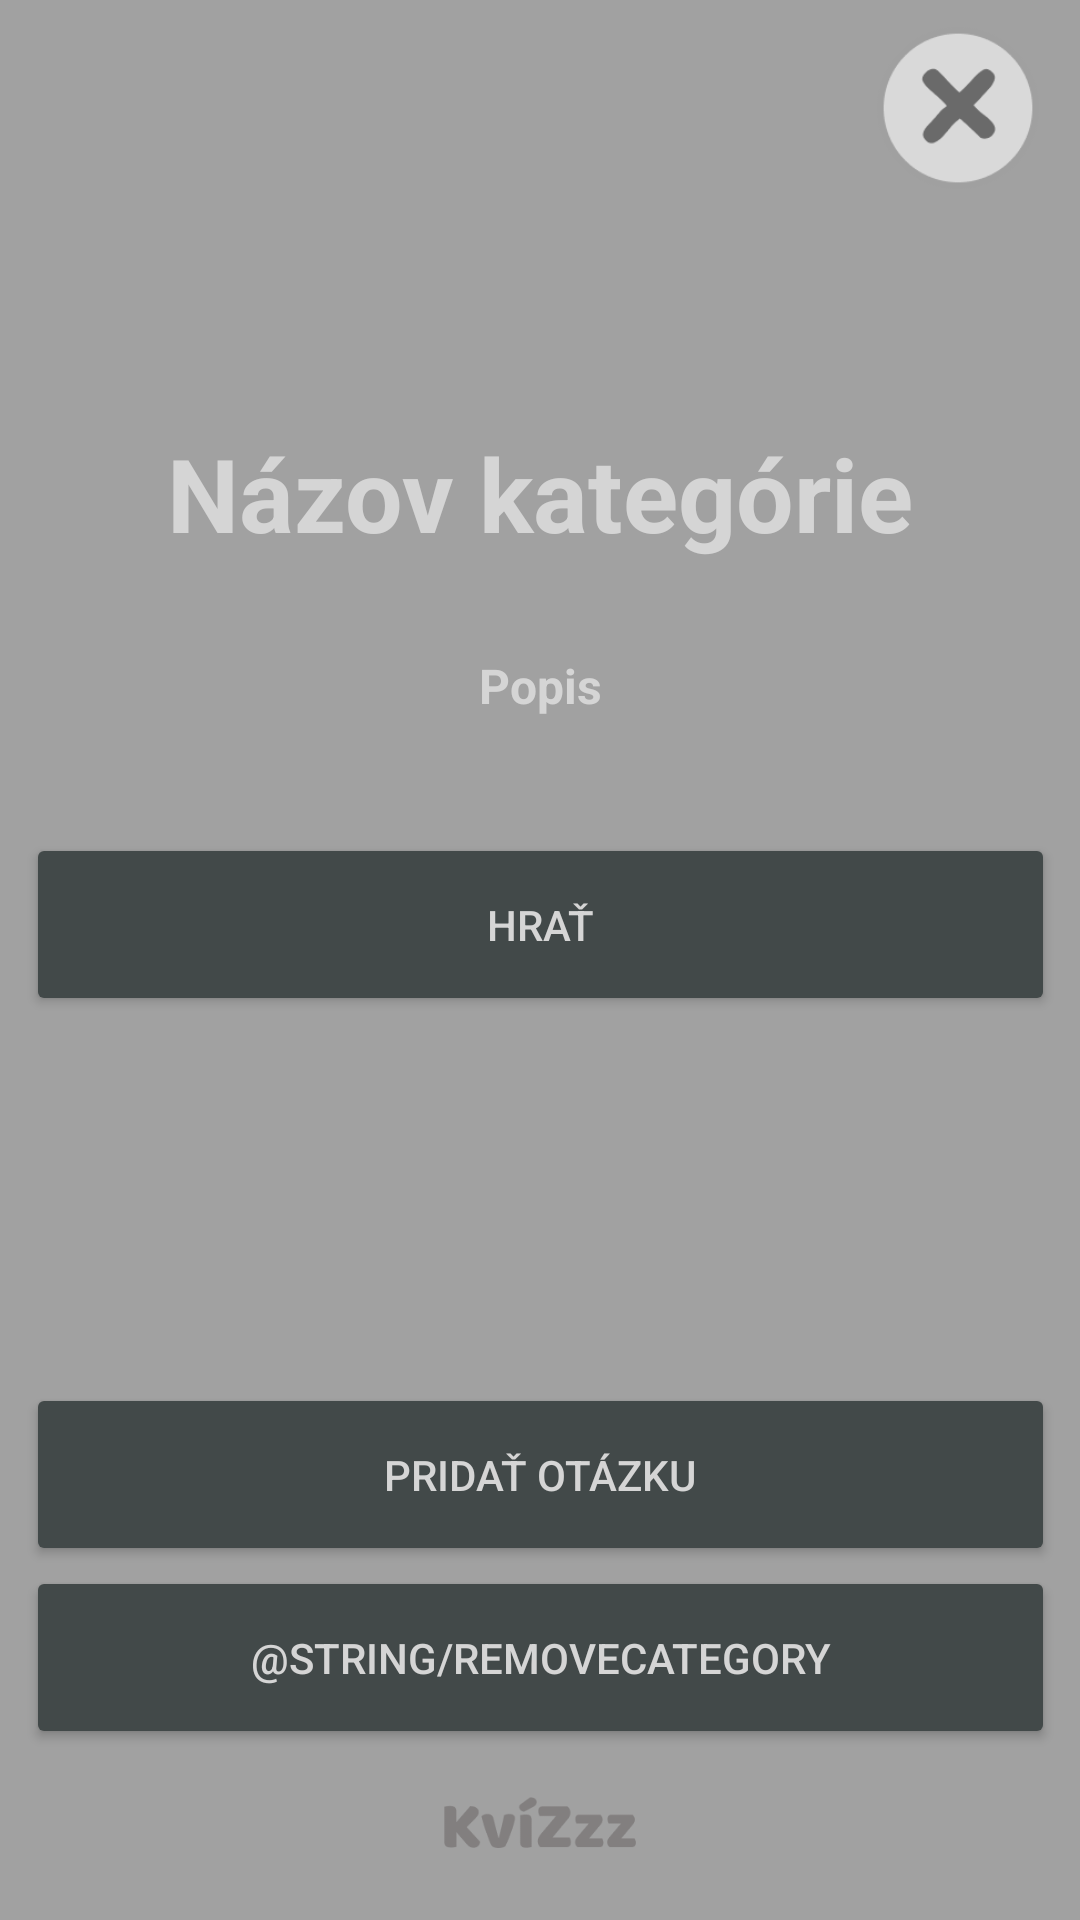

Icons on this 1080×1920 Android screen, each with its box as box=[x1, y1, x2, y2]:
exit: box=[884, 34, 1032, 182]
